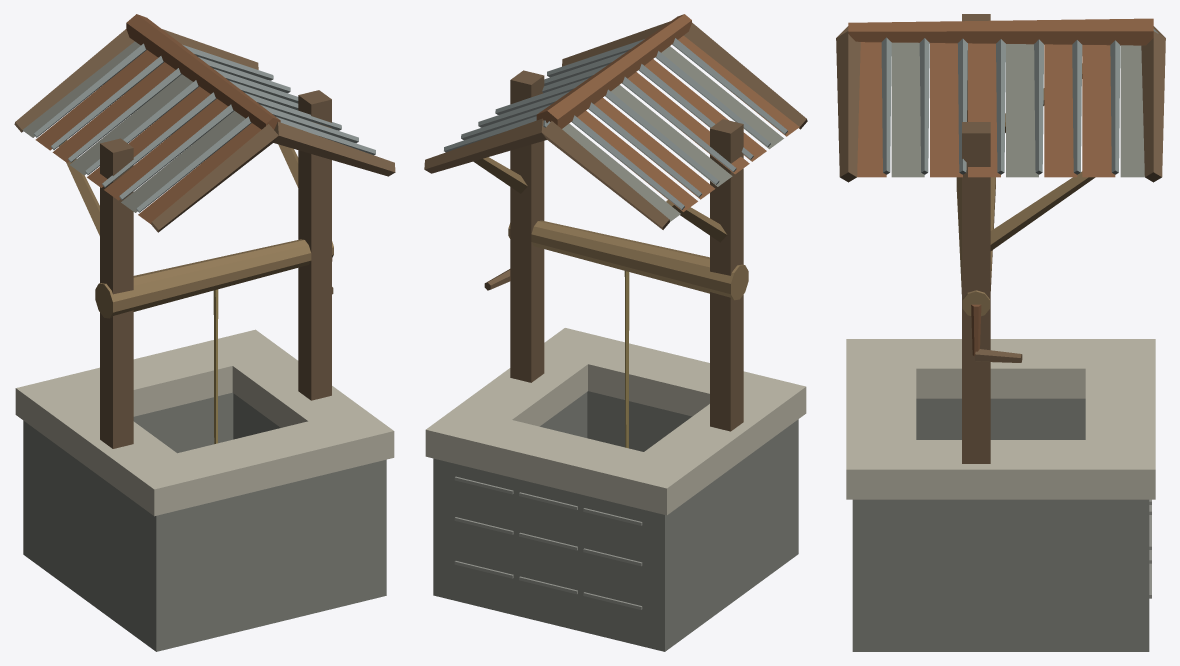
Rendered from well.glb.
3 renders of one model, left to right at view 1: azimuth 30°, elevation 25°; view 2: azimuth 150°, elevation 25°; view 3: azimuth 270°, elevation 25°, orthographic. The views are drawn at different scales.
Visible parts, largest first — view 1: well_visual; view 2: well_visual; view 3: well_visual.
Boxes of the visible parts, x1=… form: well_visual: x1=14, y1=14, x2=395, y2=651; well_visual: x1=424, y1=14, x2=807, y2=651; well_visual: x1=836, y1=14, x2=1165, y2=651.
Size of what is drawn, in the model's own units: 1.52 by 3.06 by 1.6.
